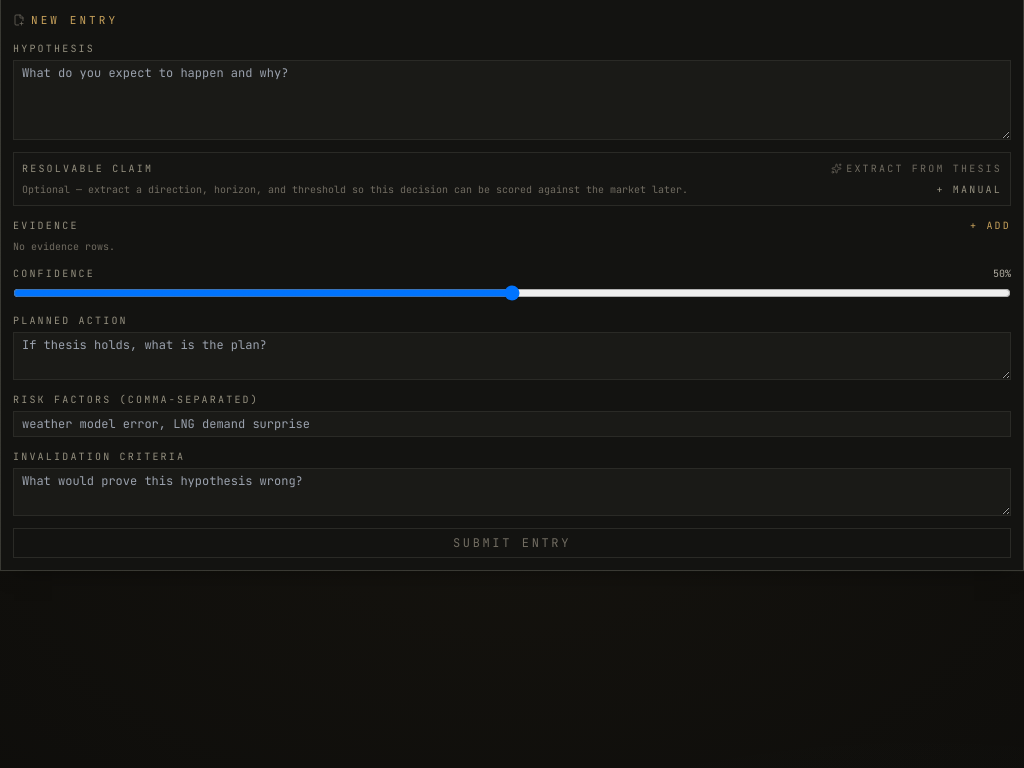
Scenario: NewEntryForm › can add and remove evidence rows
What coordinates should you click on to do the following:
click the button "+ Add"
I would click on:
 (990, 225)
Its box is [970,218,1011,232].
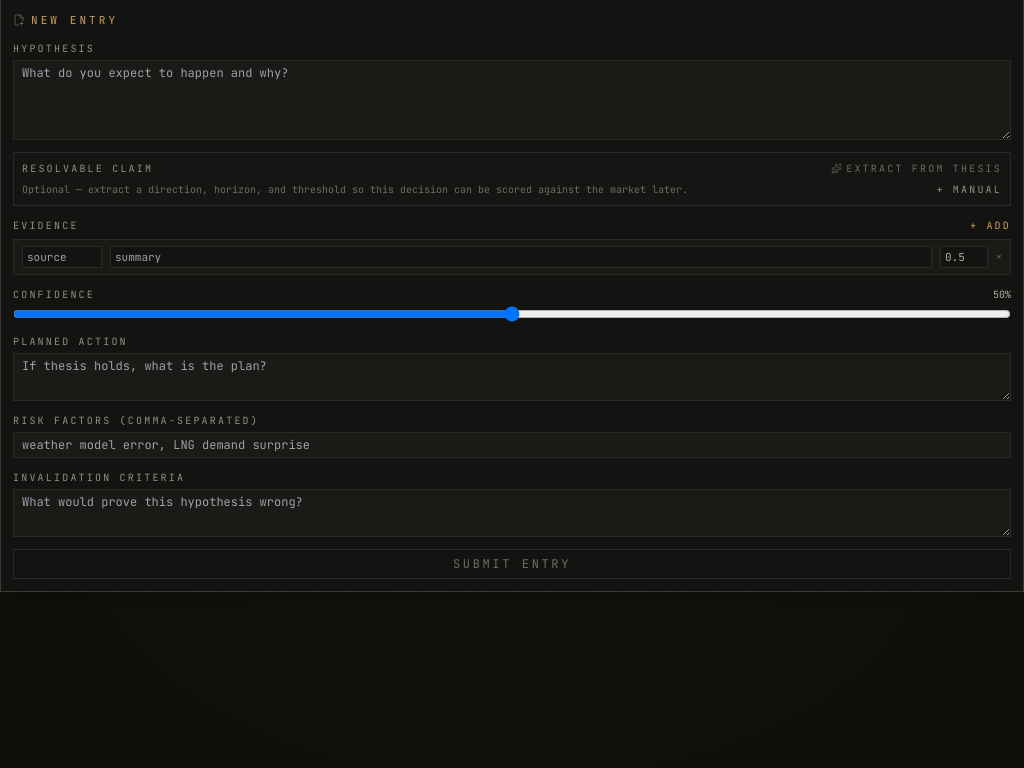
Expected: the field with placeholder "source" is shown, [22,246,102,268]
What coordinates should you click on to do the following:
click the button named "Remove evidence 1"
I would click on:
 (999, 257)
Its box is [996,249,1002,264].
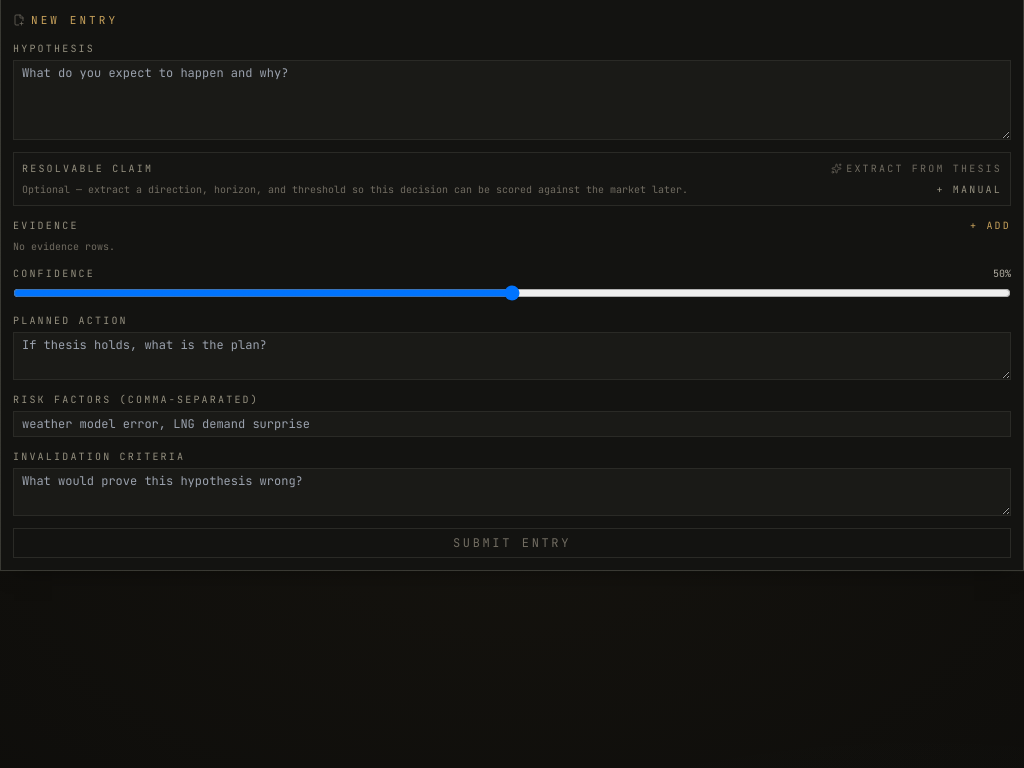
Expected: the field with placeholder "source" is gone
